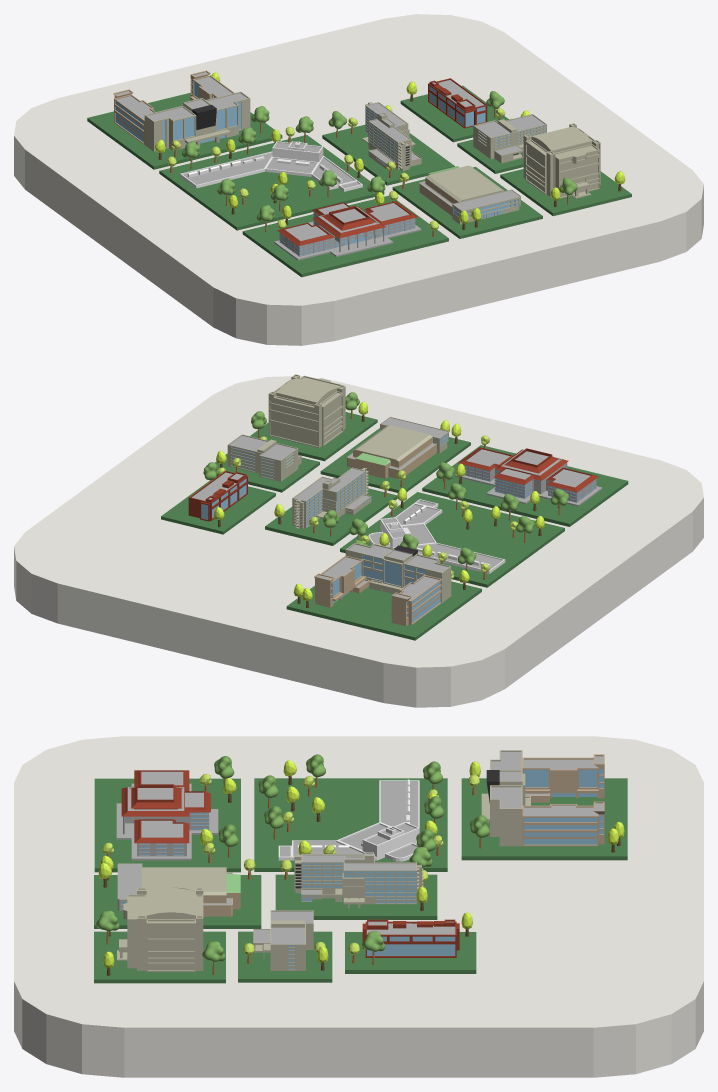
The picture shows the model from 3 angles, top to bottom: view 1: azimuth 30°, elevation 25°; view 2: azimuth 150°, elevation 25°; view 3: azimuth 270°, elevation 25°; orthographic projection. The views are drawn at different scales.
Parts seen in each view (by area): view 1: Cube.001, 底板.004, 行政7, 行政1, 行政2, 底板.007, 行政5, 行政4, 底板.003, 行政8, Plane.003, 底板.005 (+5 smaller); view 2: Cube.001, 行政7, 底板.004, 行政1, 行政2, 底板.003, 行政4, 底板.007, 行政8, 行政5, 行政6, Plane.003 (+5 smaller); view 3: Cube.001, 行政7, 底板.004, 行政1, 行政2, 行政8, 底板.003, 底板.007, 行政5, 行政4, Plane.003, 行政3 (+5 smaller).
Boxes of the visible parts, x1,y1,x2,y2 form: Cube.001: [14, 14, 703, 345]; 底板.004: [159, 135, 384, 230]; 行政7: [113, 70, 250, 151]; 行政1: [274, 201, 421, 260]; 行政2: [523, 123, 600, 198]; 底板.007: [242, 195, 448, 277]; 行政5: [180, 141, 362, 191]; 行政4: [419, 165, 520, 224]; 底板.003: [87, 92, 282, 169]; 行政8: [362, 102, 421, 171]; Plane.003: [322, 124, 454, 185]; 底板.005: [392, 166, 542, 238]; Cube.001: [14, 376, 703, 707]; 行政7: [314, 543, 451, 626]; 底板.004: [340, 492, 564, 587]; 行政1: [455, 447, 602, 506]; 行政2: [268, 374, 345, 447]; 底板.003: [286, 581, 481, 640]; 行政4: [347, 417, 448, 478]; 底板.007: [422, 445, 628, 526]; 行政8: [292, 467, 371, 528]; 行政5: [368, 499, 505, 573]; 行政6: [227, 434, 301, 481]; Plane.003: [265, 488, 397, 545]; Cube.001: [14, 736, 703, 1077]; 行政7: [481, 750, 604, 846]; 底板.004: [254, 778, 447, 871]; 行政1: [116, 770, 218, 860]; 行政2: [117, 887, 203, 971]; 行政8: [294, 852, 423, 908]; 底板.003: [461, 778, 627, 860]; 底板.007: [94, 778, 240, 872]; 行政5: [278, 779, 419, 861]; 行政4: [117, 863, 240, 916]; Plane.003: [275, 874, 437, 919]; 行政3: [362, 919, 459, 957].
Size of the model in its own units: 26.25 by 4.61 by 26.25.
